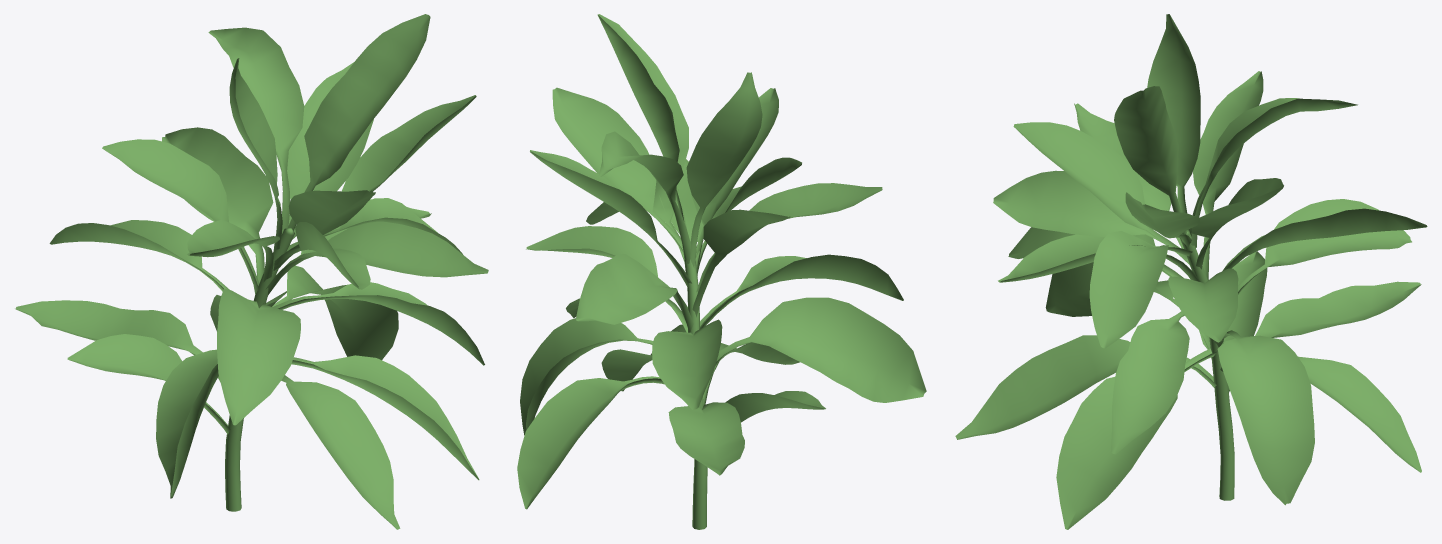
Rendered from SM_Aglaonema_03.glb.
The picture shows the model from 3 angles, left to right: view 1: azimuth 30°, elevation 25°; view 2: azimuth 150°, elevation 25°; view 3: azimuth 270°, elevation 25°; orthographic projection. The views are drawn at different scales.
Visible parts, largest first — view 1: SM_Aglaonema_03; view 2: SM_Aglaonema_03; view 3: SM_Aglaonema_03.
Part boxes in pixels (box(x1,y1,x2,y2)): SM_Aglaonema_03: box(15, 14, 488, 529); SM_Aglaonema_03: box(517, 14, 926, 529); SM_Aglaonema_03: box(955, 14, 1427, 529).
Size of what is drawn, in the model's own units: 16.09 by 21.13 by 18.75.
